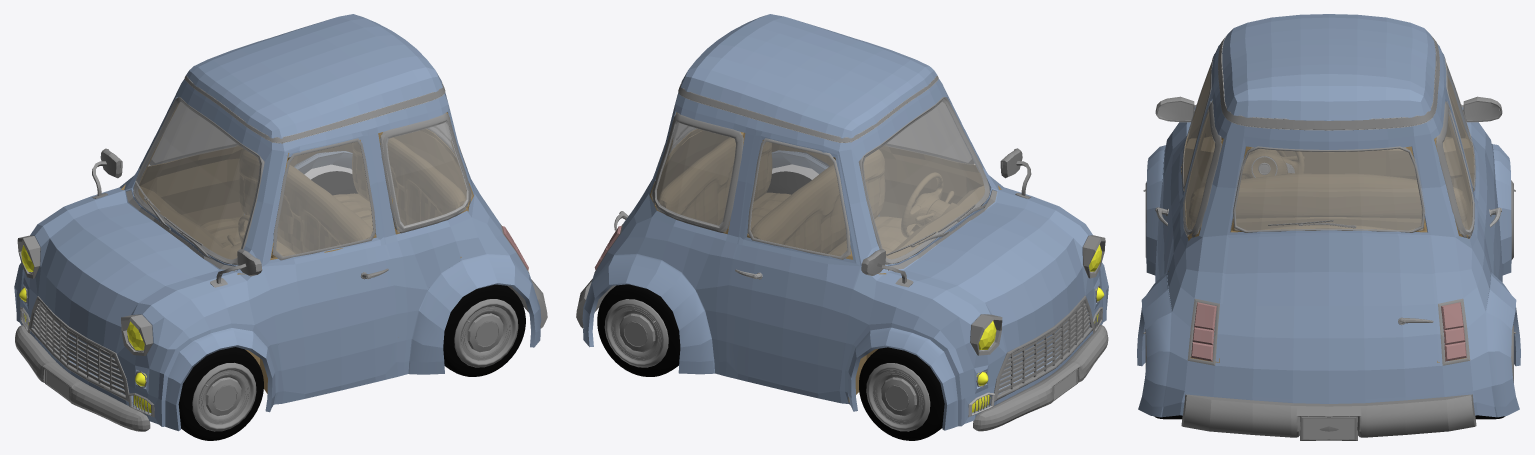
File: M_Carrito.fbx
The picture shows the model from 3 angles, left to right: view 1: azimuth 30°, elevation 25°; view 2: azimuth 150°, elevation 25°; view 3: azimuth 270°, elevation 25°; orthographic projection. The views are drawn at different scales.
Parts seen in each view (by area): view 1: M_Carrito:CarTexture:CarMain1:group8_M_Carrito:CarTexture:Ca; view 2: M_Carrito:CarTexture:CarMain1:group8_M_Carrito:CarTexture:Ca; view 3: M_Carrito:CarTexture:CarMain1:group8_M_Carrito:CarTexture:Ca.
Boxes of the visible parts, bbox=[...] form: M_Carrito:CarTexture:CarMain1:group8_M_Carrito:CarTexture:Ca: bbox=[14, 14, 547, 440]; M_Carrito:CarTexture:CarMain1:group8_M_Carrito:CarTexture:Ca: bbox=[576, 14, 1108, 440]; M_Carrito:CarTexture:CarMain1:group8_M_Carrito:CarTexture:Ca: bbox=[1137, 14, 1520, 440].
Size of the model in its own units: 48.86 by 30.46 by 32.69.
